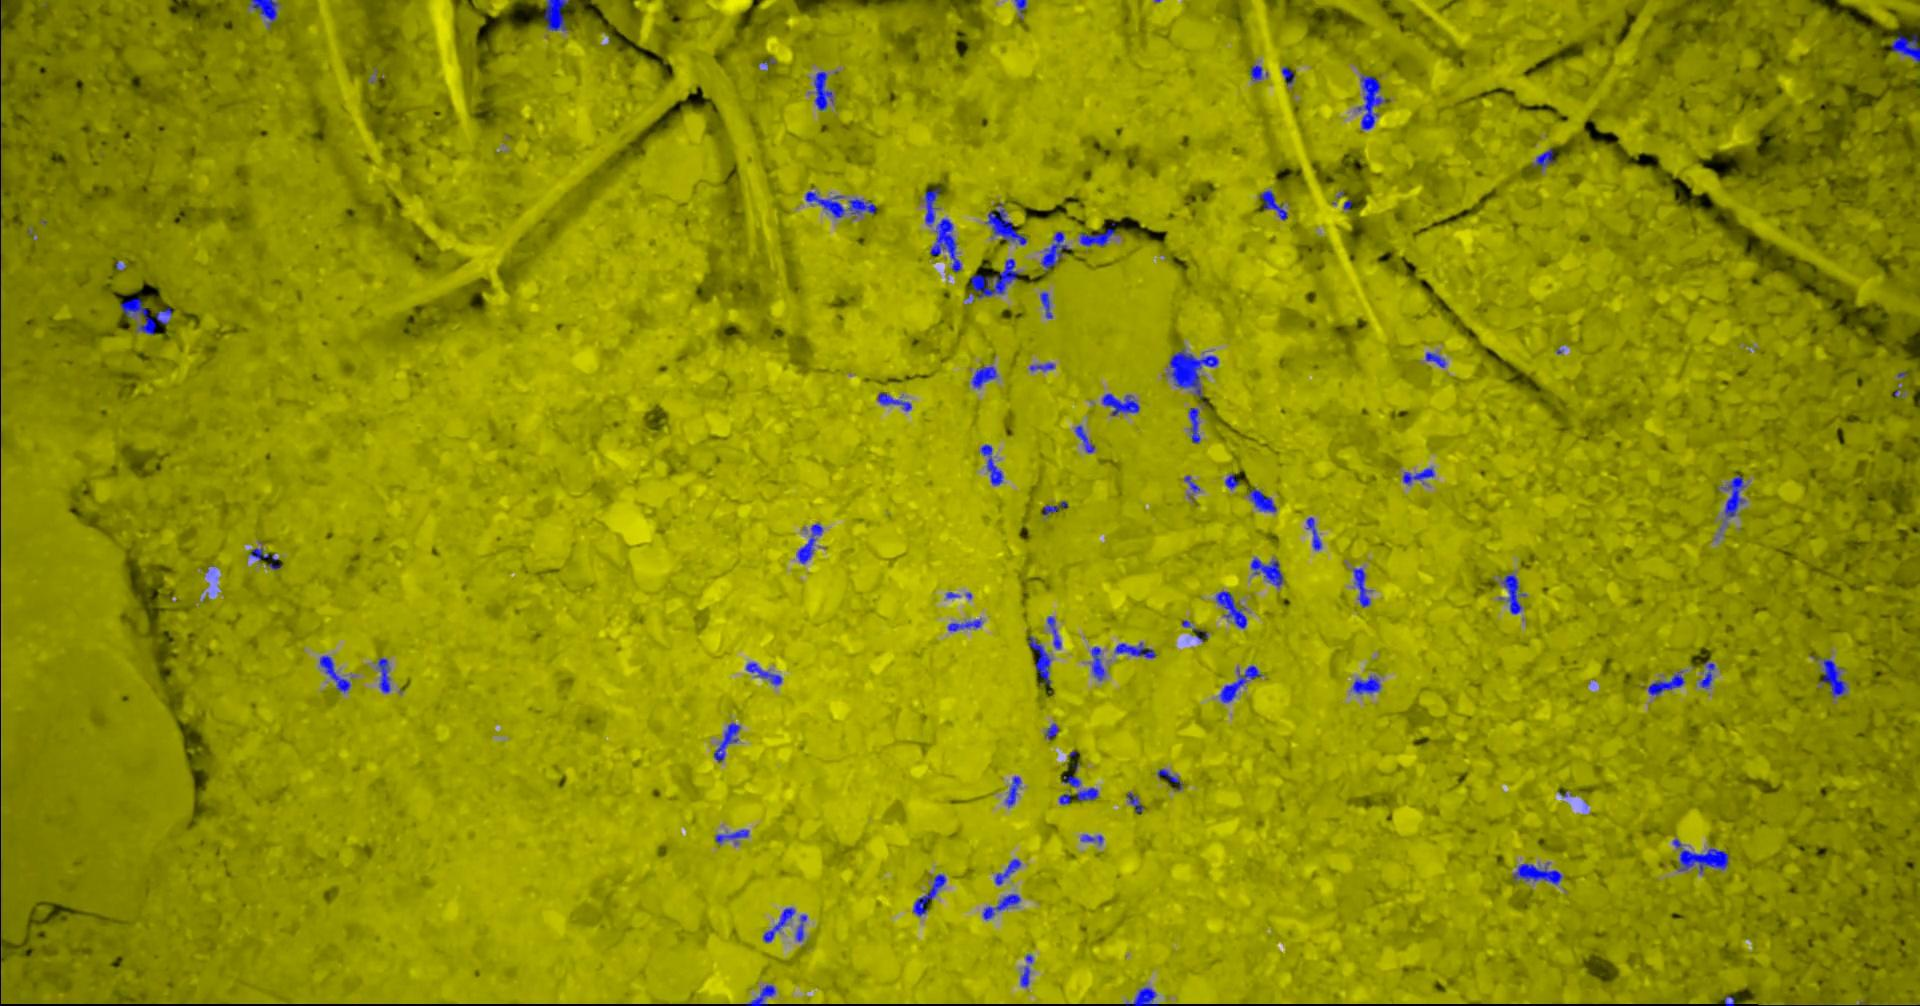ant: (1168, 348, 1218, 398), (968, 258, 1018, 298), (119, 297, 171, 334), (1672, 838, 1728, 873), (805, 191, 876, 217), (985, 202, 1026, 244), (1218, 666, 1261, 702), (930, 218, 960, 271), (1357, 74, 1385, 130), (912, 873, 945, 916), (319, 655, 350, 691), (762, 907, 794, 942), (1215, 591, 1246, 627), (1040, 231, 1068, 271), (1029, 635, 1050, 685), (712, 723, 740, 761), (1512, 862, 1561, 884), (1820, 658, 1846, 696), (982, 893, 1020, 920), (796, 523, 822, 563), (1501, 574, 1525, 614), (1647, 669, 1684, 695), (980, 445, 1003, 485), (1250, 558, 1283, 586), (1722, 475, 1743, 517), (1890, 33, 1919, 64), (1079, 222, 1115, 246), (1102, 392, 1139, 415), (1258, 191, 1288, 218), (745, 662, 781, 685), (1352, 567, 1371, 607), (813, 71, 832, 111), (543, 0, 568, 30), (248, 547, 281, 569), (994, 857, 1020, 884), (1248, 488, 1276, 512), (248, 0, 278, 22), (1114, 641, 1156, 657), (877, 392, 910, 412), (745, 984, 775, 1005), (1125, 987, 1157, 1005), (971, 366, 997, 387), (1156, 768, 1181, 790), (1074, 426, 1095, 452), (1352, 674, 1380, 694), (1402, 467, 1434, 484), (924, 187, 938, 224), (1305, 517, 1321, 550), (1004, 776, 1021, 807), (1046, 616, 1062, 648), (715, 829, 748, 843), (1531, 149, 1554, 168), (947, 619, 982, 631), (377, 658, 390, 692), (1699, 661, 1714, 688), (1189, 406, 1200, 443), (1091, 647, 1103, 680), (1020, 953, 1032, 986), (1039, 291, 1051, 318), (1043, 500, 1067, 514), (1425, 351, 1445, 367), (1126, 793, 1143, 812), (795, 915, 806, 941), (1076, 788, 1097, 800), (1250, 65, 1267, 80), (1224, 473, 1239, 489), (1183, 475, 1199, 492), (1281, 66, 1294, 84), (1062, 775, 1079, 788), (1029, 362, 1053, 371), (1045, 723, 1058, 739), (1015, 0, 1026, 18), (1079, 835, 1102, 843), (1058, 793, 1070, 804), (0, 137, 1, 189)
